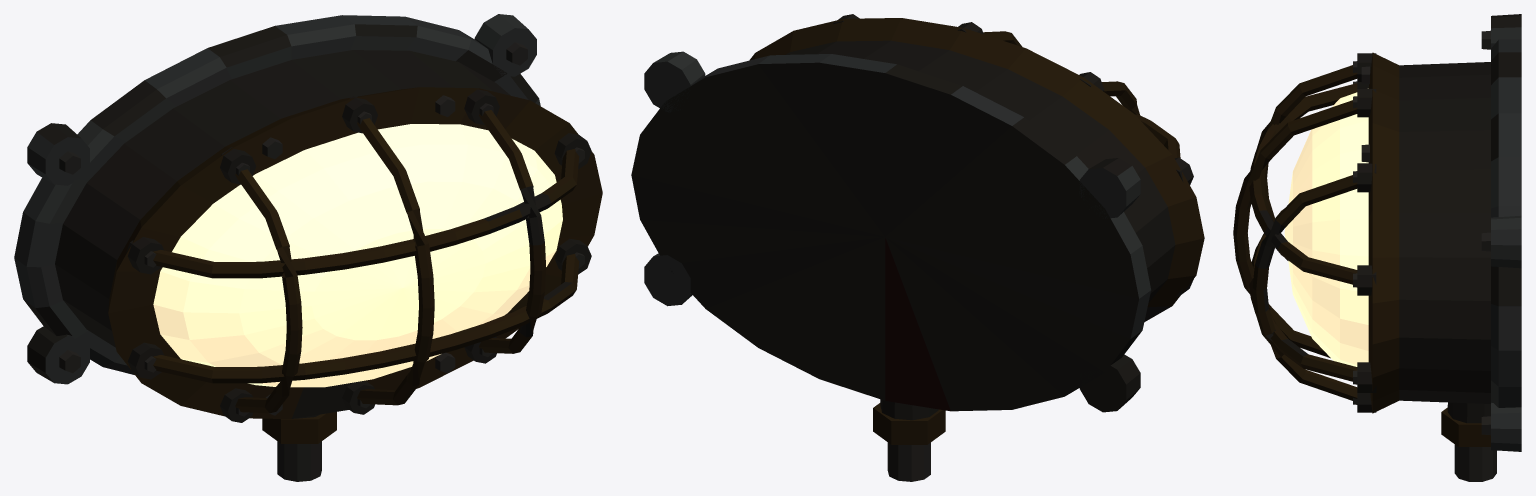
The model's file is bulkhead_light.fbx.
3 views of the same model, side by side, from view 1: azimuth 30°, elevation 25°; view 2: azimuth 150°, elevation 25°; view 3: azimuth 270°, elevation 25° (orthographic). The views are drawn at different scales.
Parts seen in each view (by area): view 1: MaritimeBulkheadLight; view 2: MaritimeBulkheadLight; view 3: MaritimeBulkheadLight.
Boxes of the visible parts, bbox=[...] form: MaritimeBulkheadLight: bbox=[14, 14, 602, 481]; MaritimeBulkheadLight: bbox=[631, 14, 1204, 481]; MaritimeBulkheadLight: bbox=[1233, 14, 1521, 481].
Size of the model in its own units: 29.1 by 22.85 by 15.08.
